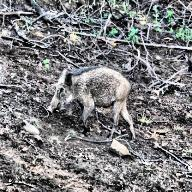boar: (47, 65, 135, 142)
